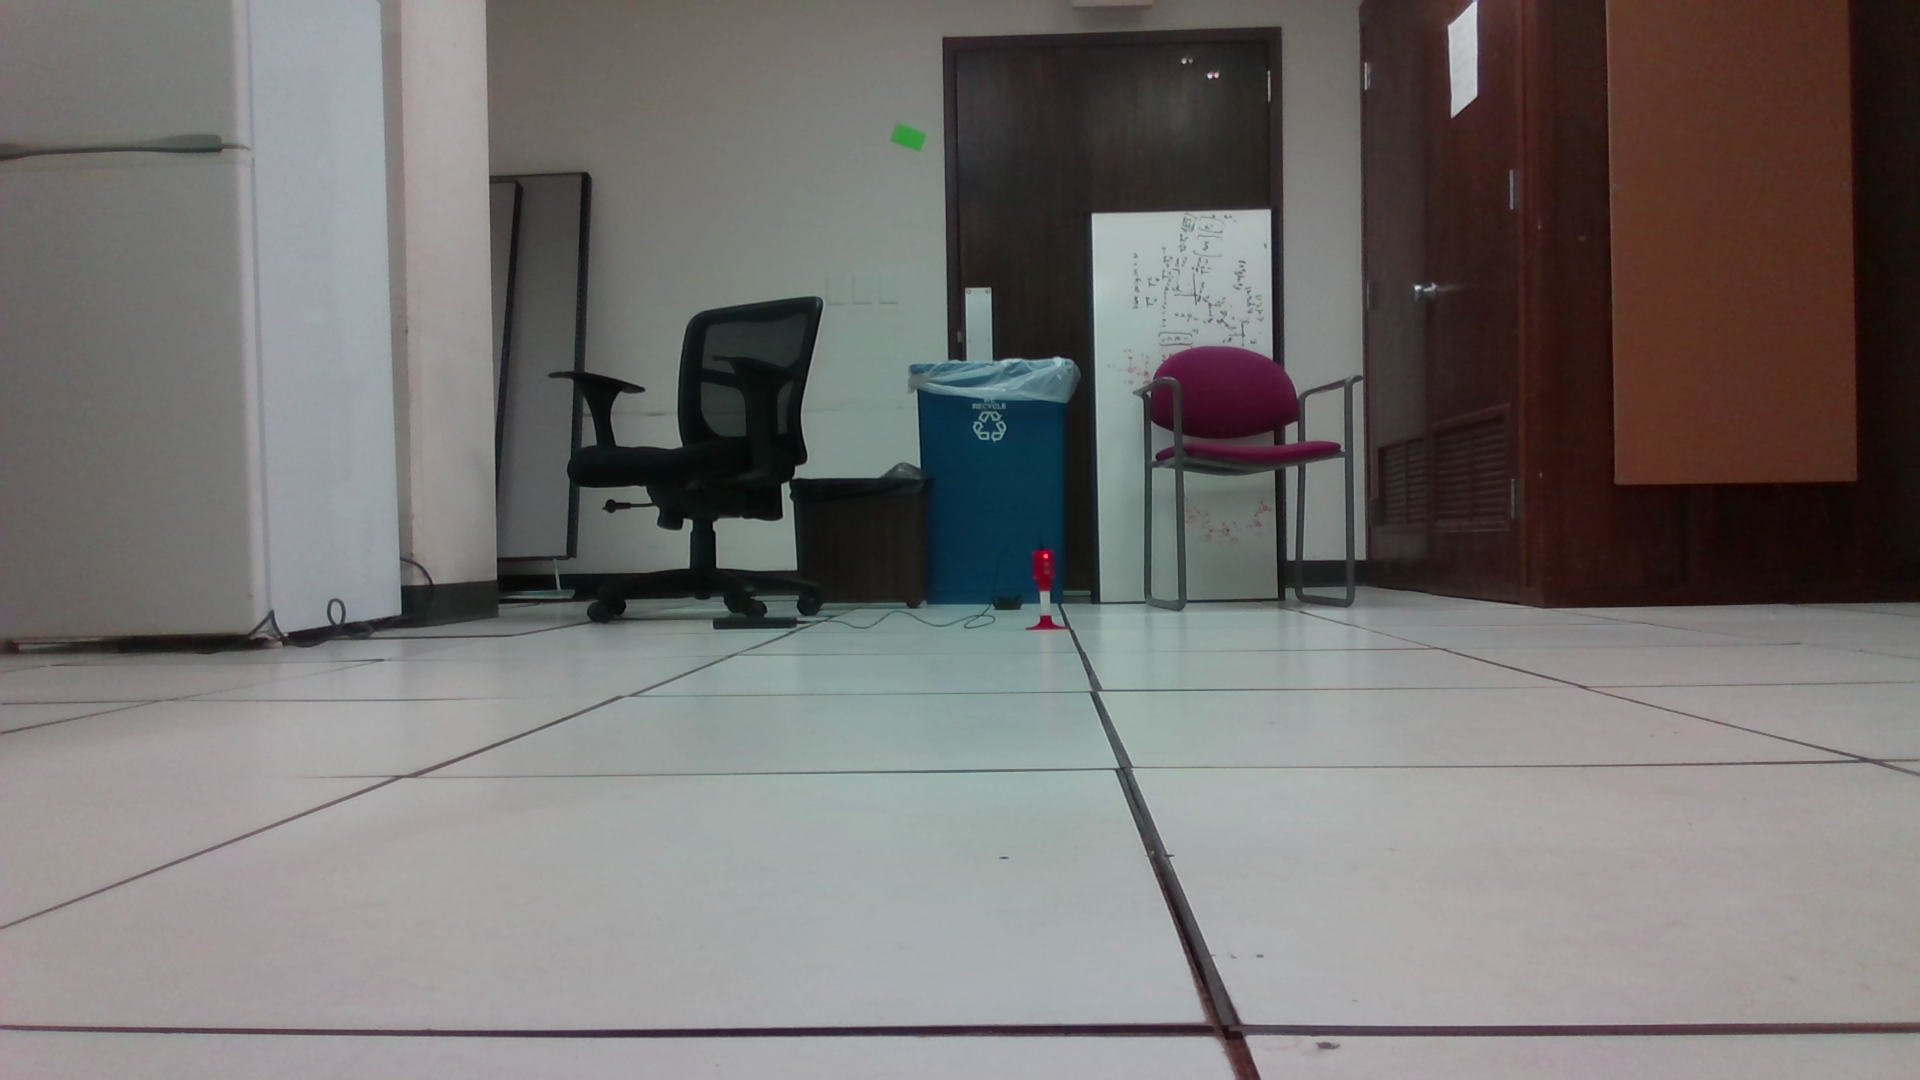stoplight: (1033, 550, 1058, 587)
